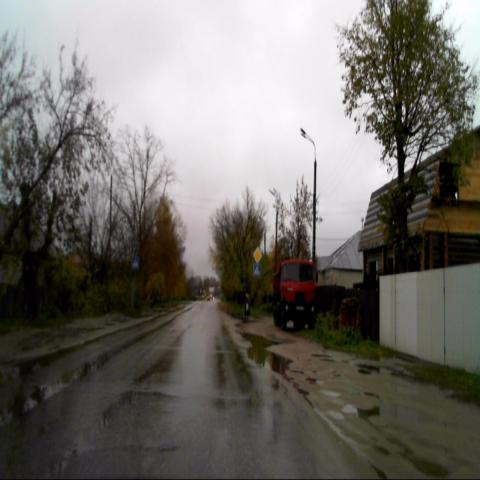2_1: (253, 245, 262, 264)
5_19_1: (252, 263, 262, 278), (131, 256, 139, 270)
